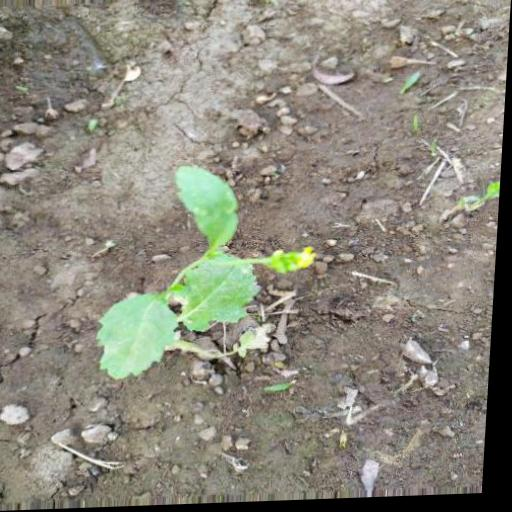weed: (98, 164, 330, 391)
